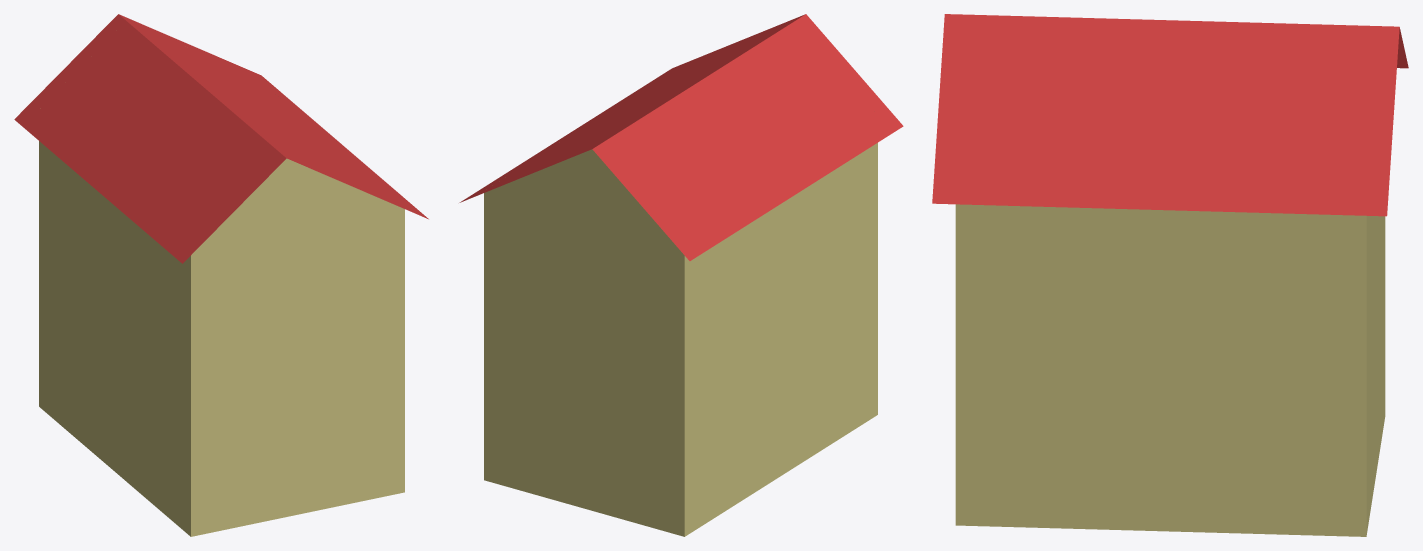
The picture shows the model from 3 angles, left to right: view 1: azimuth 30°, elevation 25°; view 2: azimuth 150°, elevation 25°; view 3: azimuth 270°, elevation 25°; orthographic projection. The views are drawn at different scales.
Bounding box in the file's own units: 12.2 × 16.19 × 16.48.
